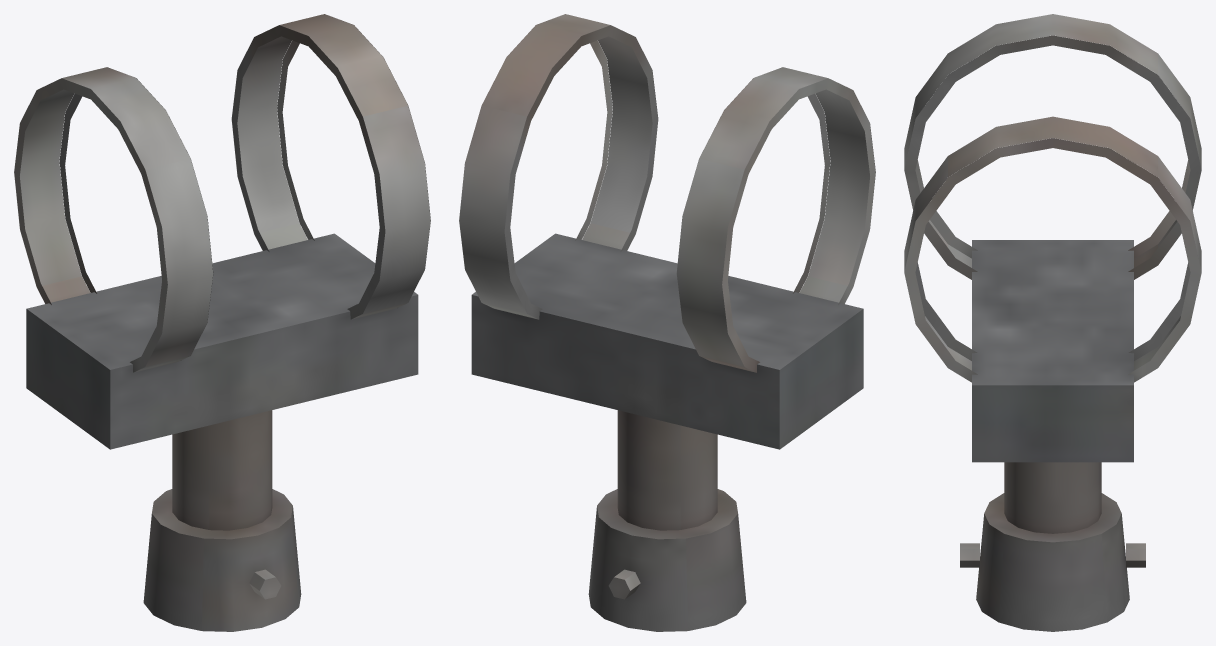
The model's file is mastMount2-v1-galvanised.glb.
3 renders of one model, left to right at view 1: azimuth 30°, elevation 25°; view 2: azimuth 150°, elevation 25°; view 3: azimuth 270°, elevation 25°, orthographic. The views are drawn at different scales.
Parts seen in each view (by area): view 1: mastMount2-v1-galvanised; view 2: mastMount2-v1-galvanised; view 3: mastMount2-v1-galvanised.
Boxes of the visible parts, x1=… form: mastMount2-v1-galvanised: x1=14, y1=14, x2=430, y2=631; mastMount2-v1-galvanised: x1=459, y1=14, x2=875, y2=631; mastMount2-v1-galvanised: x1=904, y1=14, x2=1201, y2=631.
Size of the model in its own units: 0.17 by 0.2855 by 0.147.
Materials: 1 (1 with a texture image).
